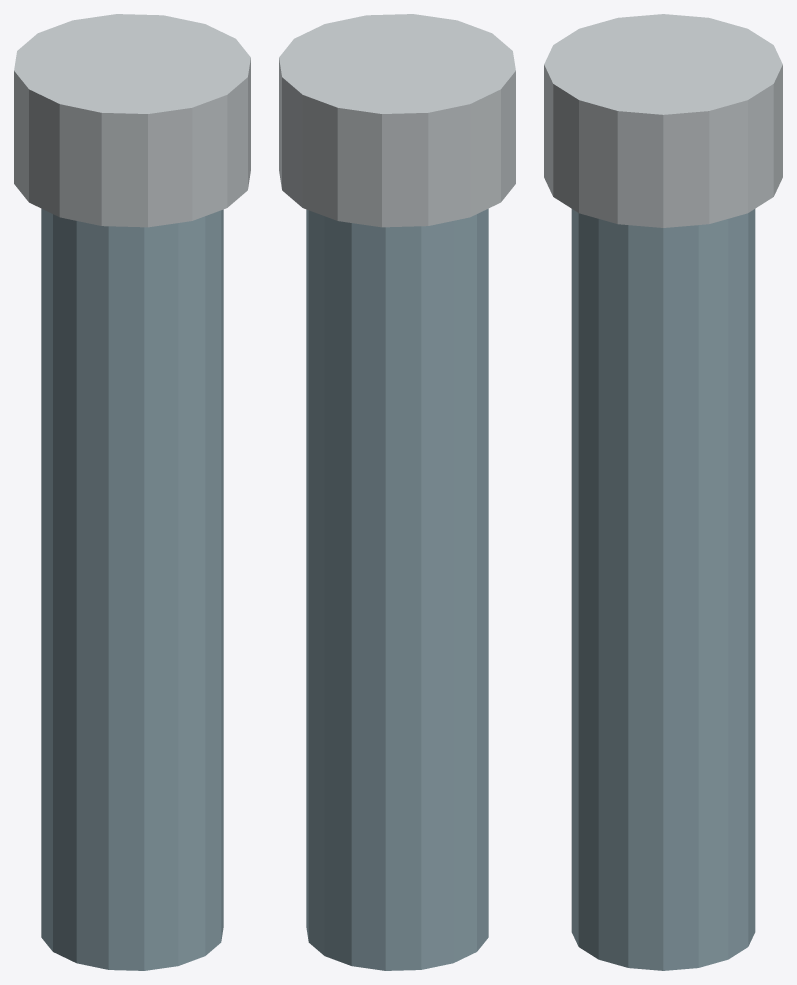
The model's file is heater-50.glb.
3 views of the same model, side by side, from view 1: azimuth 30°, elevation 25°; view 2: azimuth 150°, elevation 25°; view 3: azimuth 270°, elevation 25° (orthographic).
Parts seen in each view (by area): view 1: ht_tube, ht_cap; view 2: ht_tube, ht_cap; view 3: ht_tube, ht_cap.
Boxes of the visible parts, <box> form: ht_tube: <box>41,208,223,970</box>; ht_cap: <box>14,14,250,227</box>; ht_tube: <box>306,208,488,970</box>; ht_cap: <box>279,14,515,227</box>; ht_tube: <box>571,209,755,970</box>; ht_cap: <box>544,14,782,227</box>.
Bounding box in the file's own units: 0.2494 × 1 × 0.2494.
